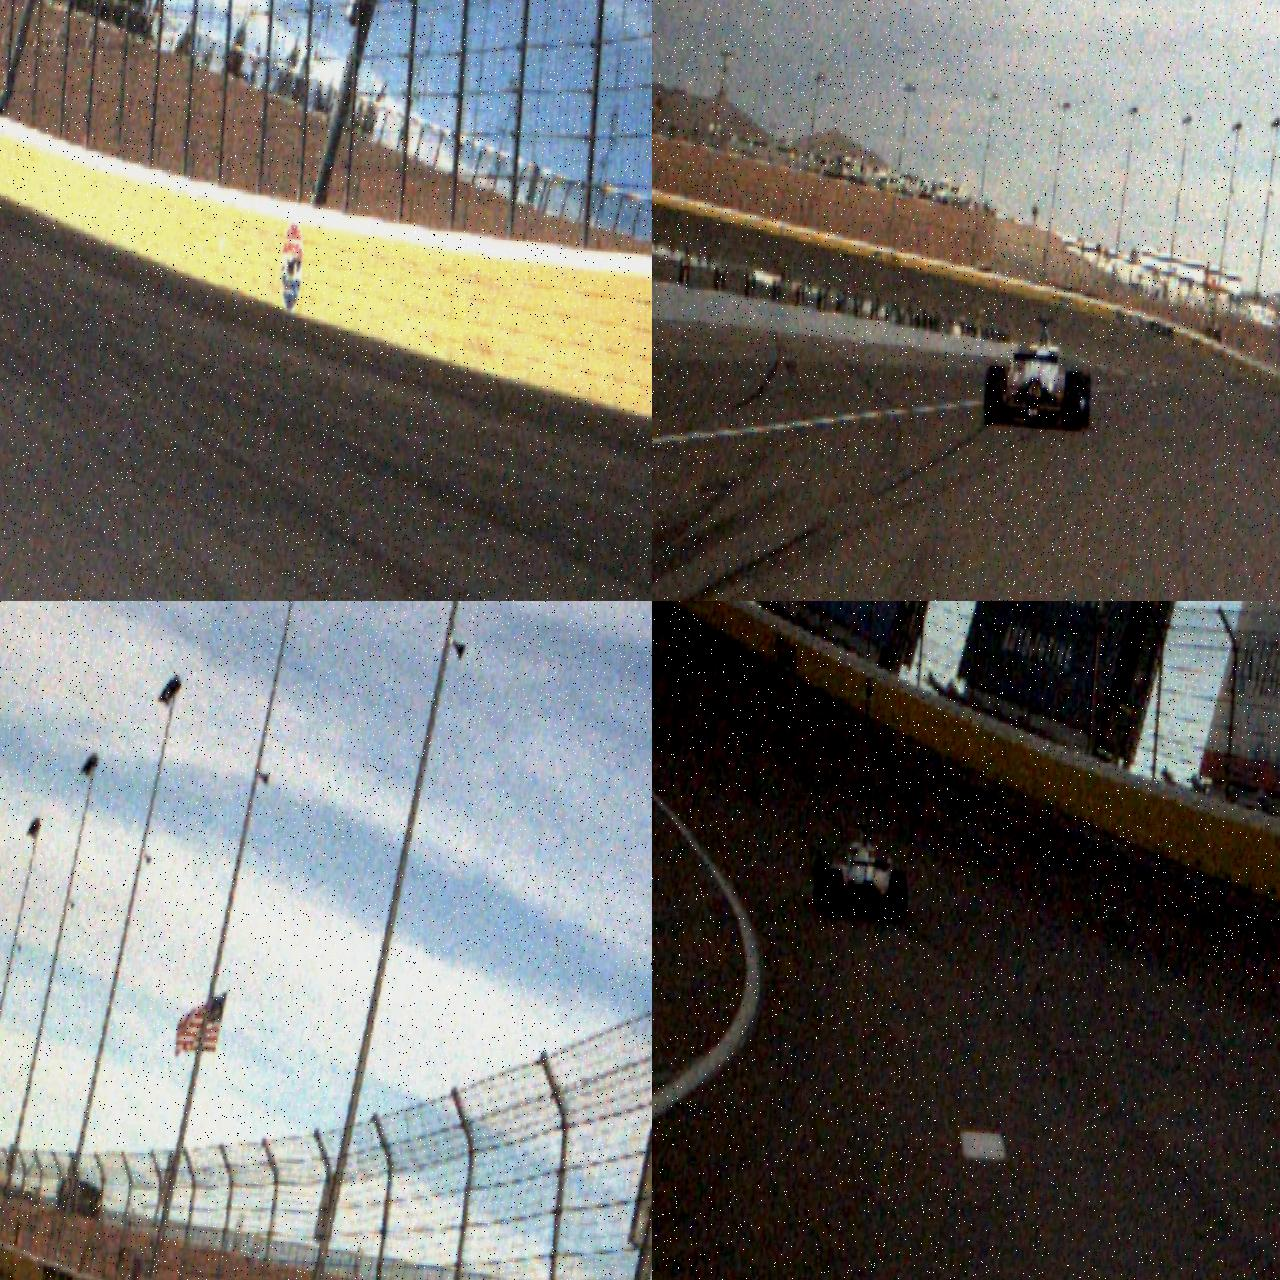AV: (981, 312, 1097, 433), (809, 821, 914, 926)
Wheel: (982, 365, 1008, 424), (1062, 372, 1085, 433), (887, 872, 910, 926), (822, 869, 844, 921), (810, 859, 829, 907)
